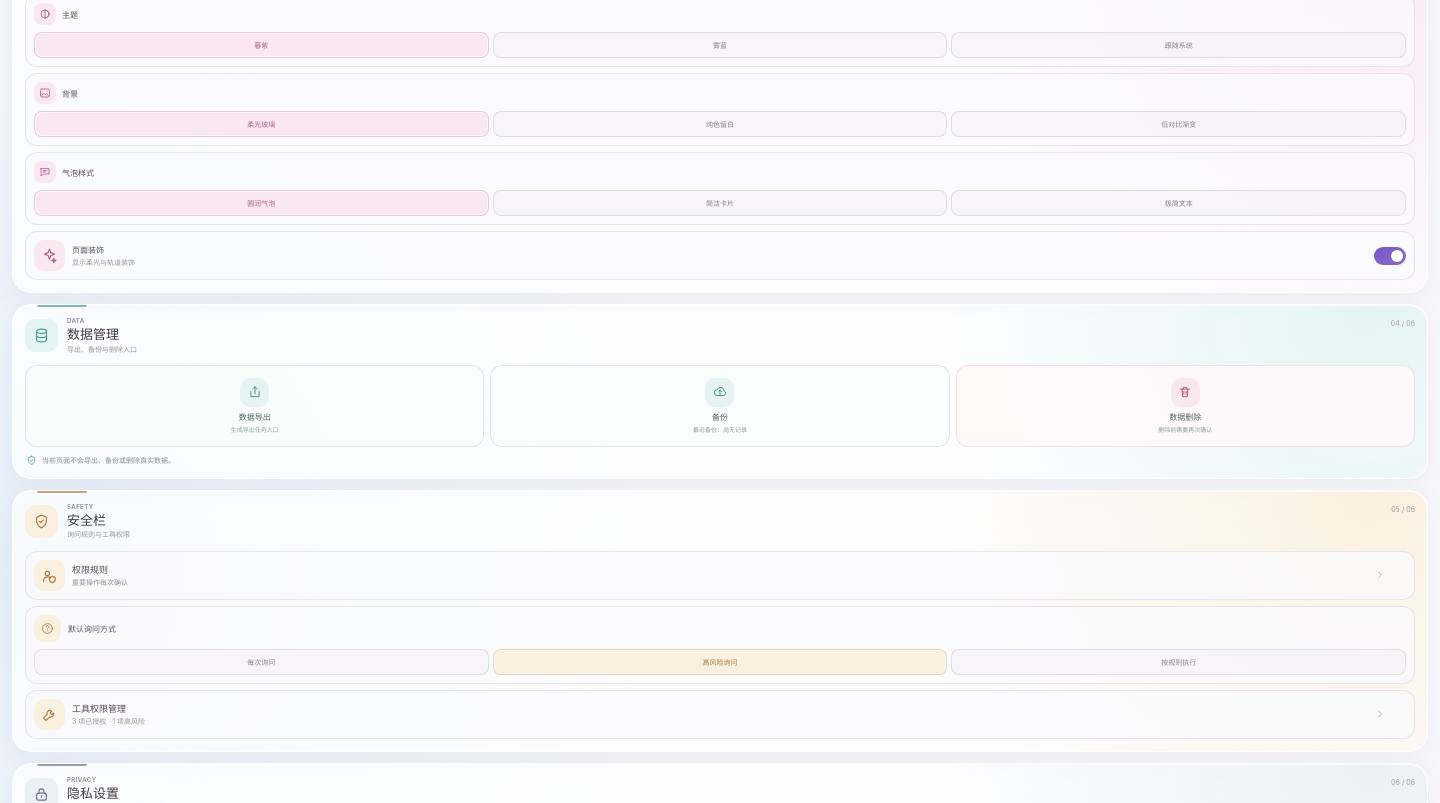
R0-C Subject Runtime settings › keeps the local-settings disclosure accurate and leaves other settings explicitly unconnected
(page scrolled)
Click the button "数据导出 生成导出任务入口": [255, 406] box [25,365,484,447]
(page scrolled)
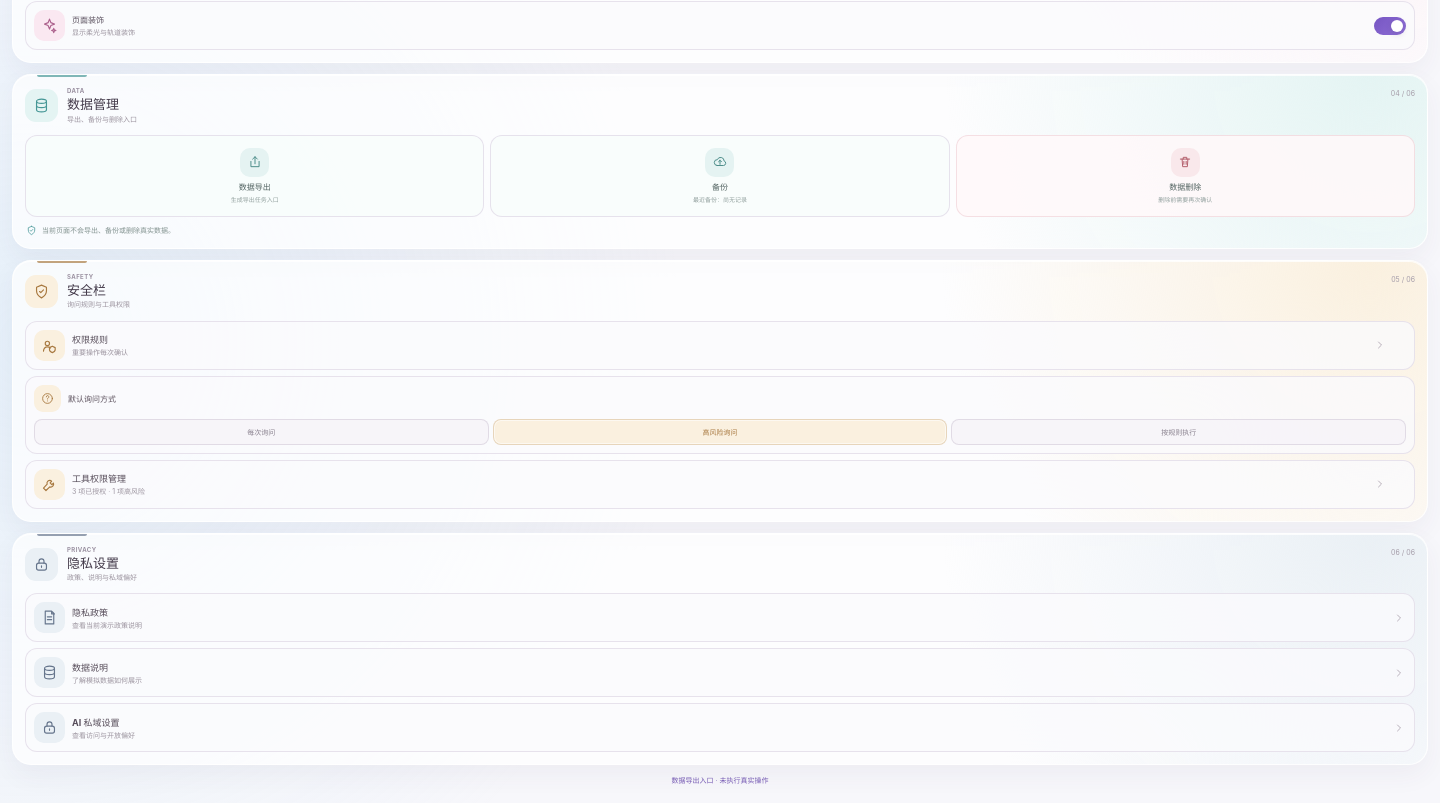
Result: the text "数据导出入口 · 未执行真实操作" is shown at [672,776,768,785]
